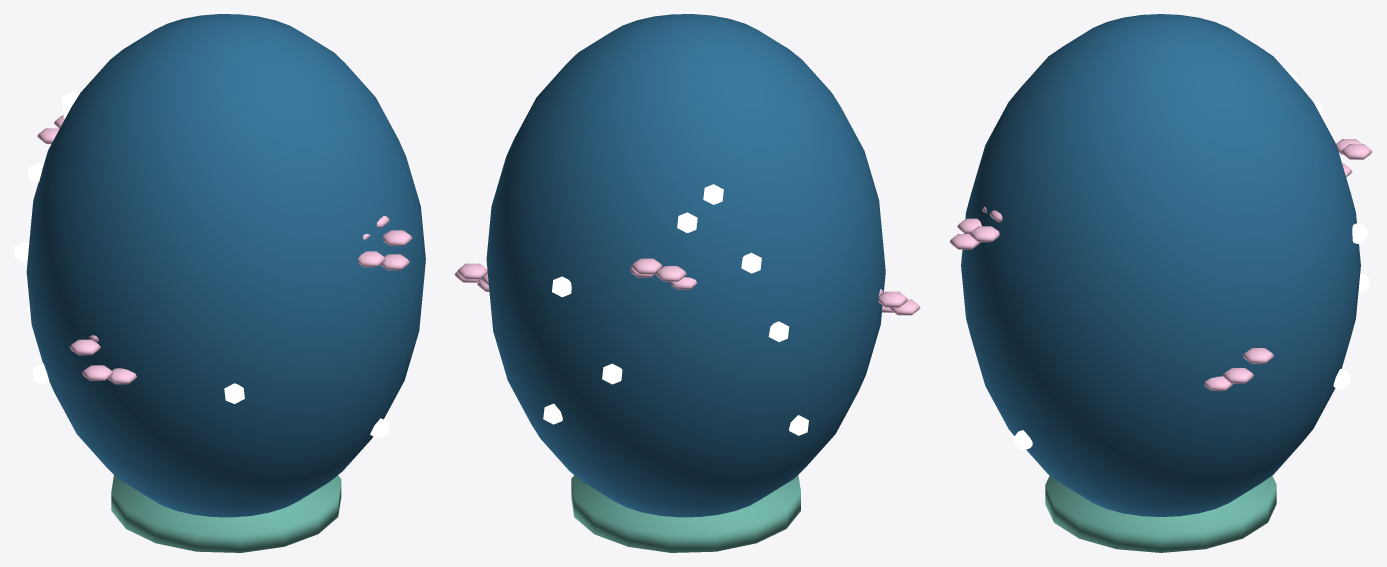
Rendered from egg_deepsea_04.glb.
The picture shows the model from 3 angles, left to right: view 1: azimuth 30°, elevation 25°; view 2: azimuth 150°, elevation 25°; view 3: azimuth 270°, elevation 25°; orthographic projection.
Parts seen in each view (by area): view 1: ball; view 2: ball; view 3: ball.
Boxes of the visible parts, left/top/right/bottom form: ball: left=14, top=14, right=425, bottom=552; ball: left=454, top=14, right=920, bottom=552; ball: left=949, top=14, right=1372, bottom=552.
Size of the model in its own units: 0.8208 by 1 by 0.8038.
